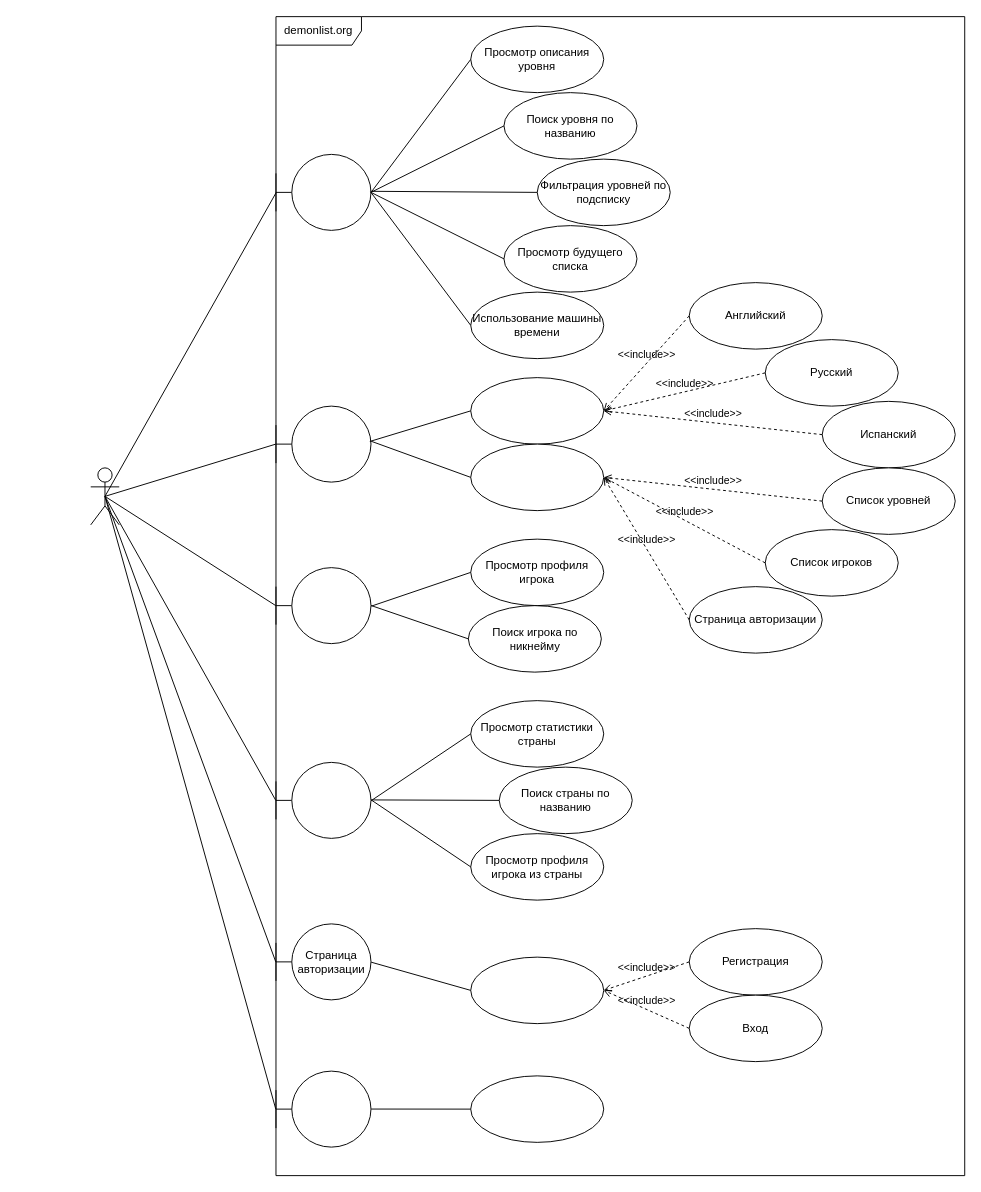
Some shapes in this 981 by 1192 pixel diagram are drawn without their labels. The centre of each missing label's shape, as x and y in pixels:
Авторизация: the point at 537,990
Главная страница: the point at 323,443
Неавторизованный пользователь: the point at 104,496
Переход на другую страницу сайта: the point at 537,477
Просмотр видео с прохождением уровня: the point at 537,1108
Смена языка сайта: the point at 537,410
Страница списка игроков: the point at 323,605
Страница списка стран: the point at 323,799
Страница списка уровней: the point at 323,191
Страница уровня: the point at 323,1108
